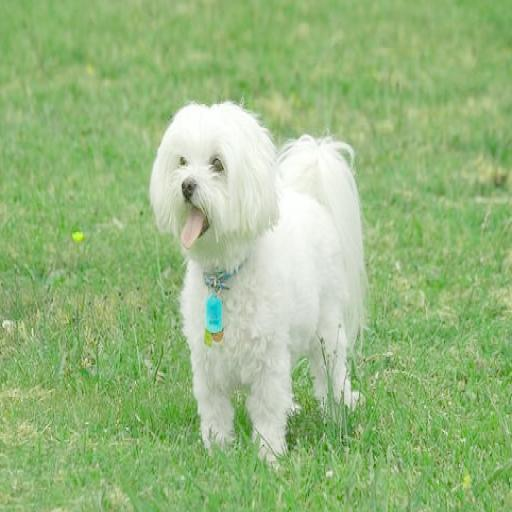dog_face: (149, 103, 272, 254)
